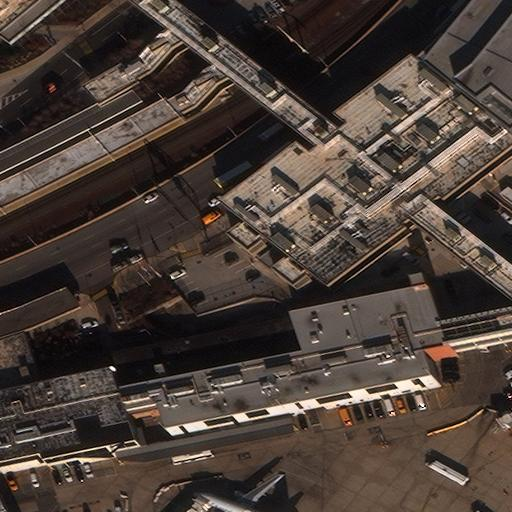Medium Civil Transport: (193, 473, 291, 512)
